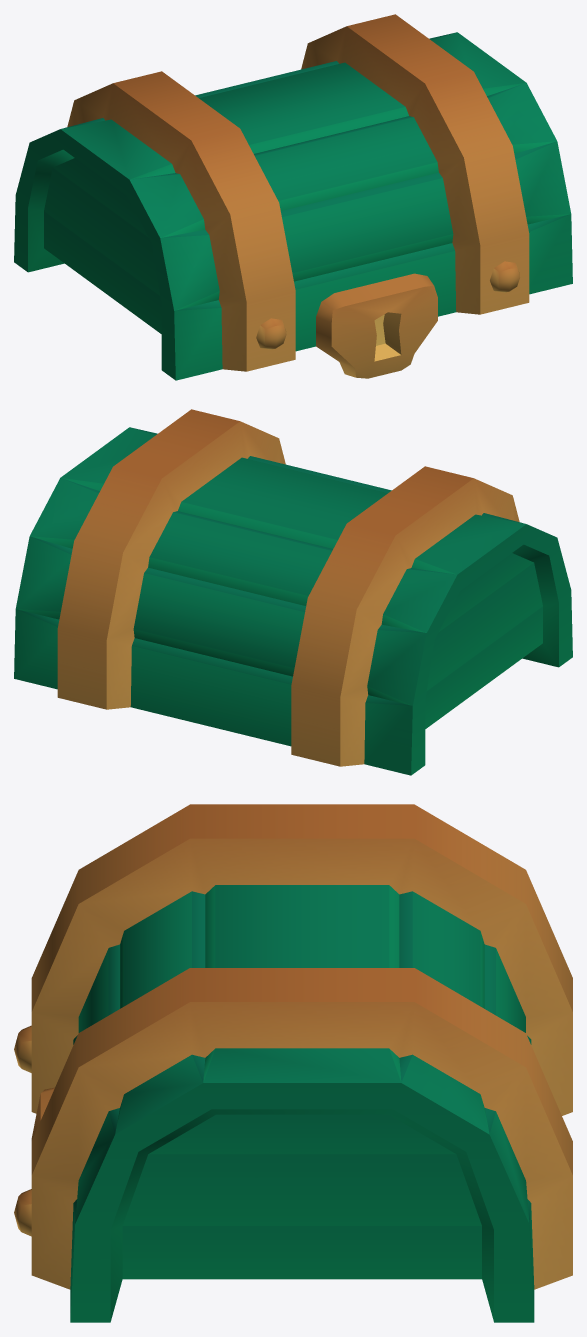
File: chest_gold_lid.glb
The picture shows the model from 3 angles, top to bottom: view 1: azimuth 30°, elevation 25°; view 2: azimuth 150°, elevation 25°; view 3: azimuth 270°, elevation 25°; orthographic projection. The views are drawn at different scales.
Visible parts, largest first — view 1: chest_gold_lid; view 2: chest_gold_lid; view 3: chest_gold_lid.
Boxes of the visible parts, bbox=[...] form: chest_gold_lid: bbox=[14, 14, 572, 380]; chest_gold_lid: bbox=[14, 409, 572, 775]; chest_gold_lid: bbox=[14, 804, 572, 1322].
Size of the model in its own units: 1.7 by 0.965 by 1.45.
Materials: 1 (1 with a texture image).
